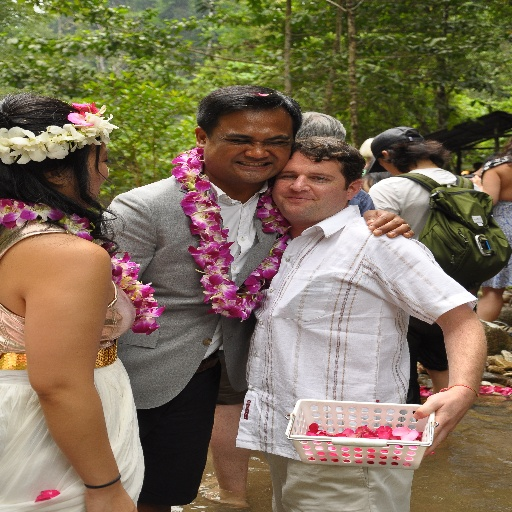hand: (410, 385, 471, 456), (362, 198, 422, 236), (84, 484, 138, 511), (471, 175, 481, 186)
